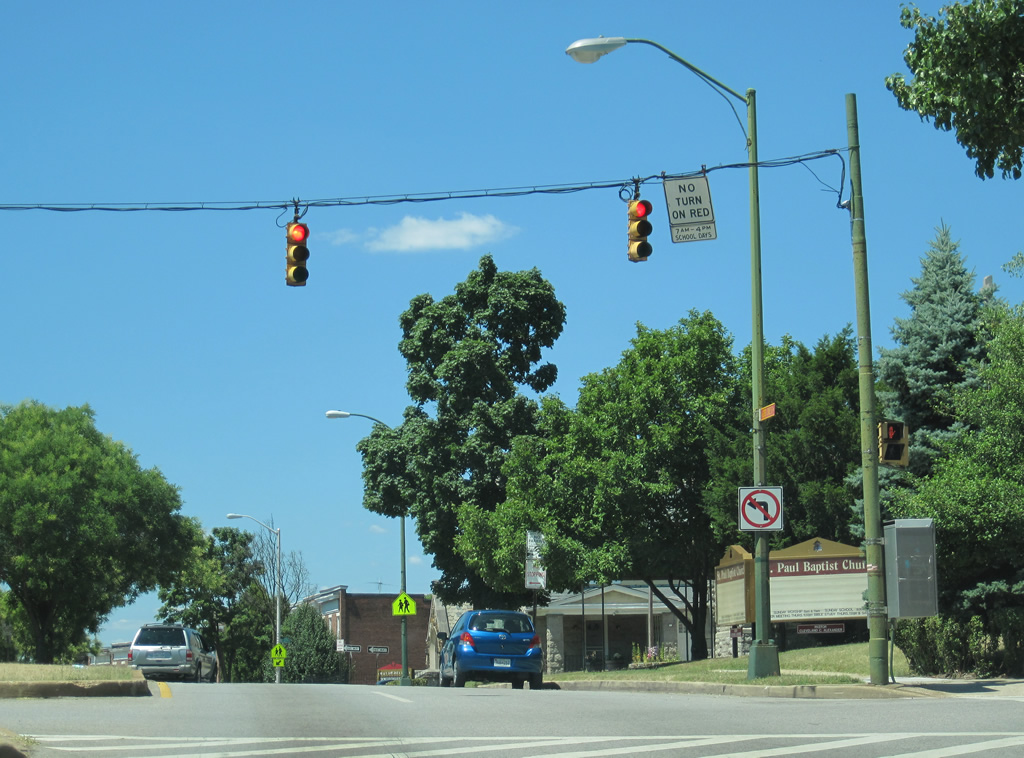traffic_light: (625, 198, 655, 264), (284, 220, 311, 288)
